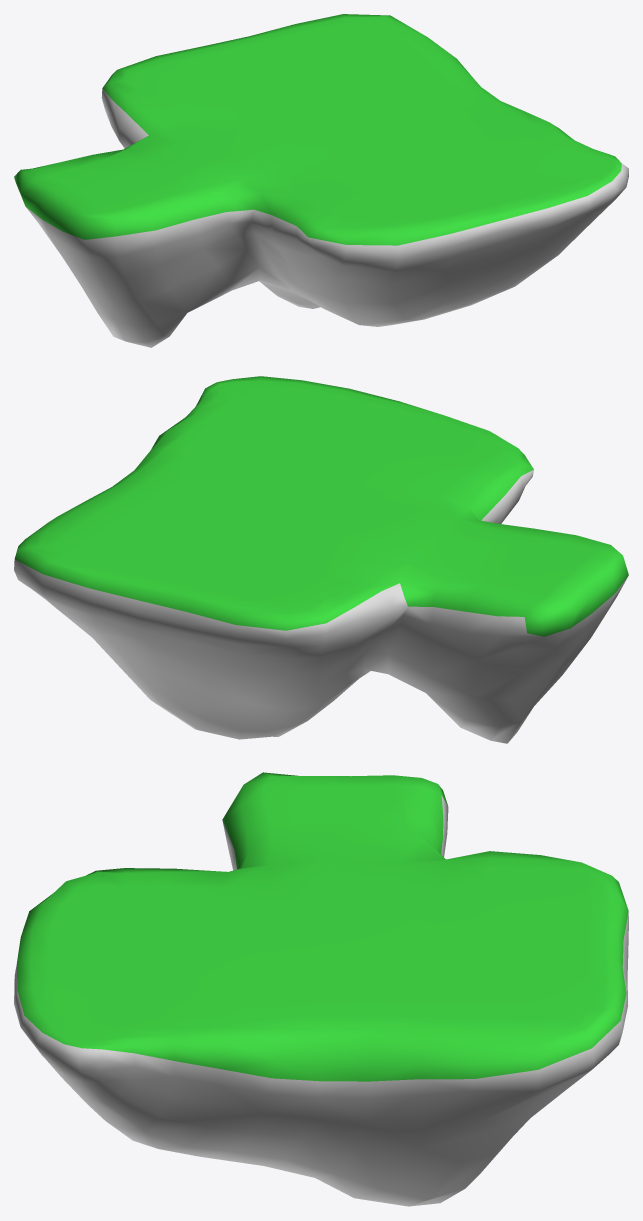
Rendered from platform_p_1_02.fbx.
The picture shows the model from 3 angles, top to bottom: view 1: azimuth 30°, elevation 25°; view 2: azimuth 150°, elevation 25°; view 3: azimuth 270°, elevation 25°; orthographic projection. The views are drawn at different scales.
Visible parts, largest first — view 1: platform_central_04.005; view 2: platform_central_04.005; view 3: platform_central_04.005.
Part boxes in pixels (bbox=[...]): platform_central_04.005: bbox=[14, 14, 628, 347]; platform_central_04.005: bbox=[14, 376, 628, 743]; platform_central_04.005: bbox=[14, 772, 628, 1206].
Size of the model in its own units: 20.24 by 8.14 by 18.62.
